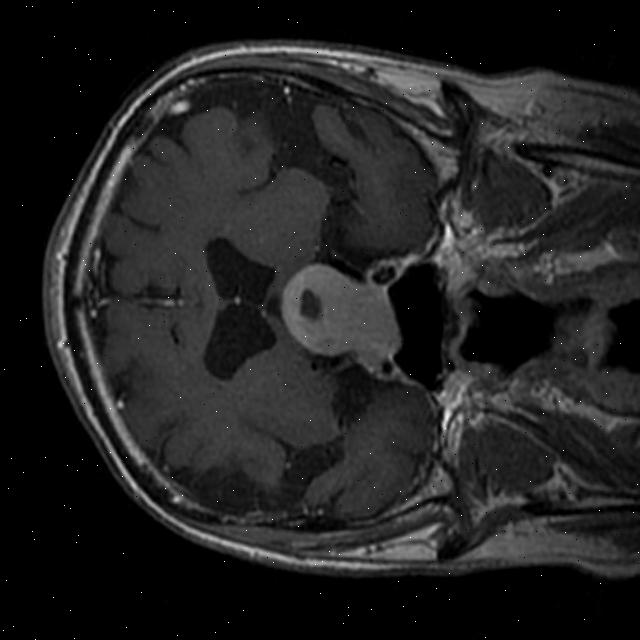Pituitary: (271, 256, 410, 366)
